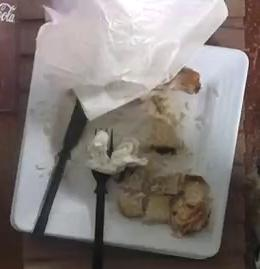potato: (118, 167, 210, 236)
